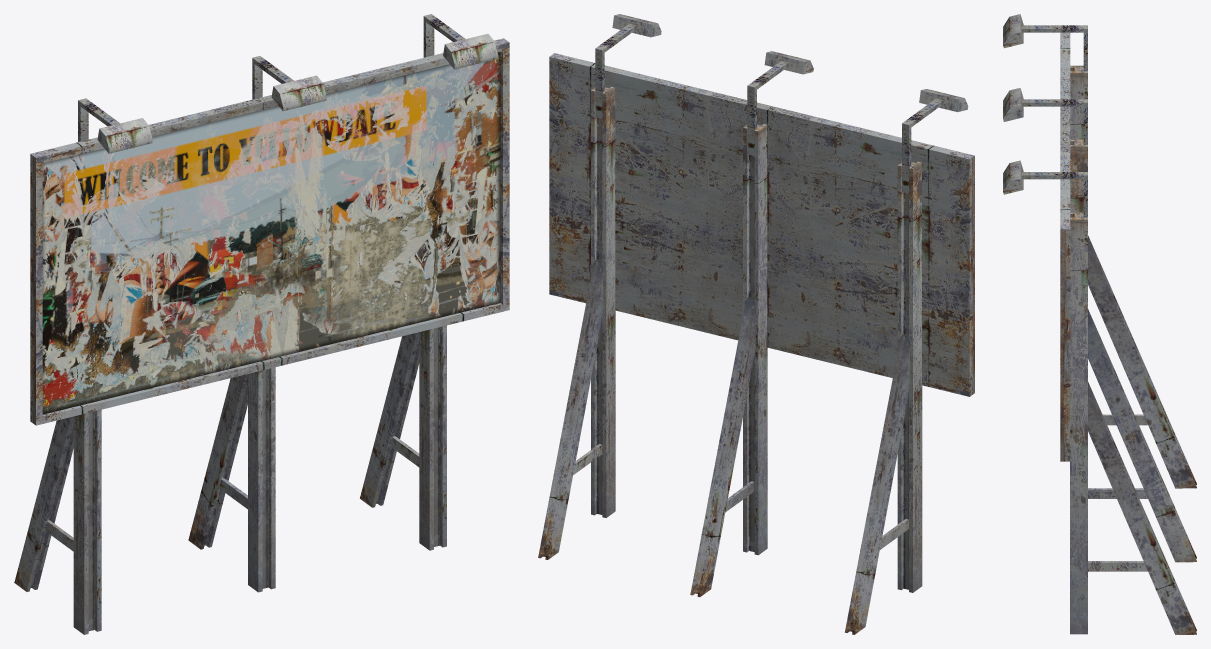
File: billboard.FBX
The picture shows the model from 3 angles, left to right: view 1: azimuth 30°, elevation 25°; view 2: azimuth 150°, elevation 25°; view 3: azimuth 270°, elevation 25°; orthographic projection. The views are drawn at different scales.
Parts seen in each view (by area): view 1: Object003; view 2: Object003; view 3: Object003.
Boxes of the visible parts, x1,y1,x2,y2 form: Object003: [14, 14, 509, 634]; Object003: [538, 14, 974, 634]; Object003: [1003, 14, 1196, 634].
Size of the model in its own units: 141 by 151 by 57.47.
